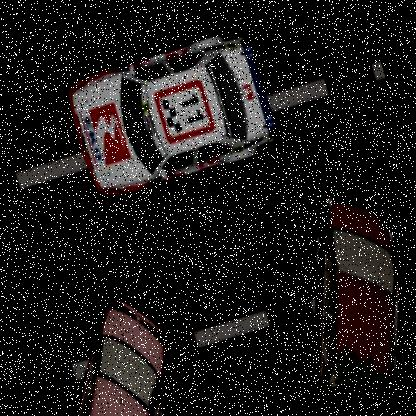Car: (54, 21, 286, 212), (256, 172, 415, 394), (26, 287, 196, 415), (371, 179, 415, 360)
